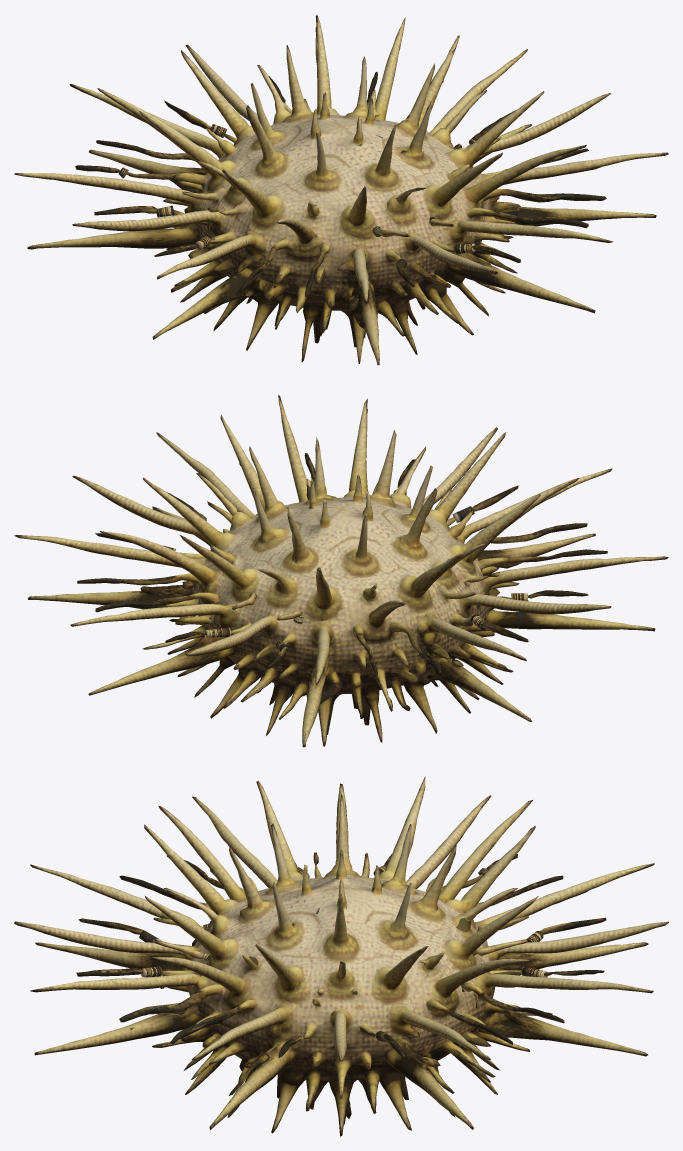
The picture shows the model from 3 angles, top to bottom: view 1: azimuth 30°, elevation 25°; view 2: azimuth 150°, elevation 25°; view 3: azimuth 270°, elevation 25°; orthographic projection. The views are drawn at different scales.
Visible parts, largest first — view 1: world; view 2: world; view 3: world.
Boxes of the visible parts, bbox=[...] form: world: bbox=[14, 15, 668, 365]; world: bbox=[14, 395, 668, 747]; world: bbox=[14, 776, 668, 1136].
Size of the model in its own units: 0.9992 by 0.4592 by 1.
1 material, 1 textured.
